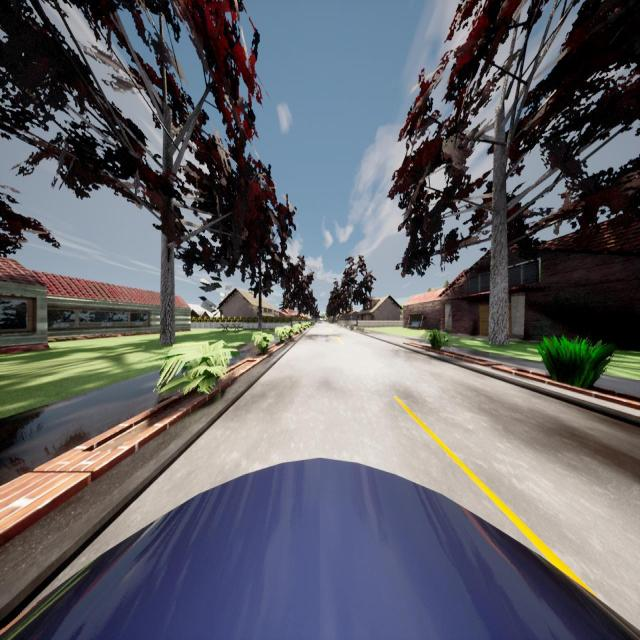Vehicle: (0, 459, 640, 640), (318, 319, 322, 324)
